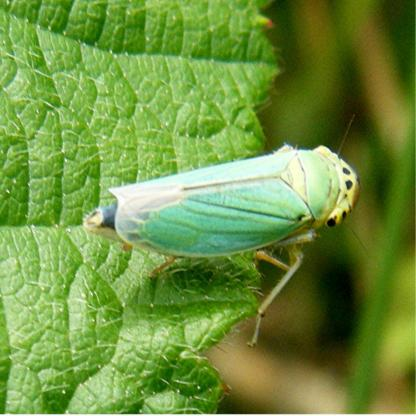Green-Leafhopper: (77, 140, 363, 351)
